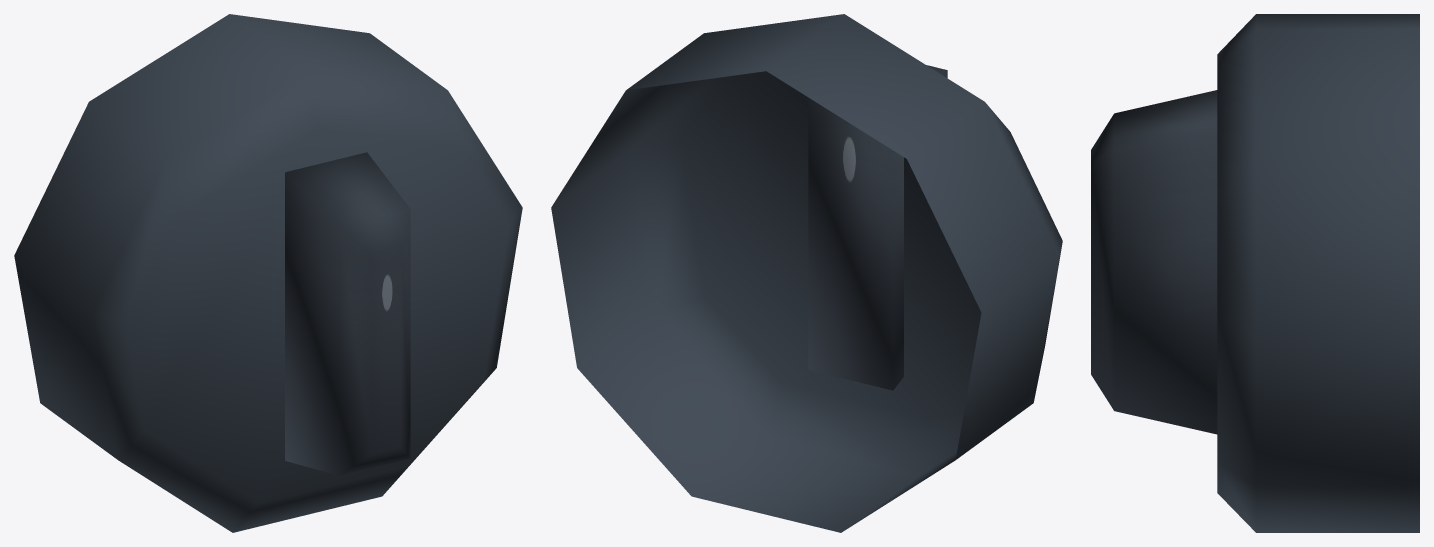
Rendered from StoveNob.fbx.
3 views of the same model, side by side, from view 1: azimuth 30°, elevation 25°; view 2: azimuth 150°, elevation 25°; view 3: azimuth 270°, elevation 25° (orthographic). The views are drawn at different scales.
Parts seen in each view (by area): view 1: StoveNob; view 2: StoveNob; view 3: StoveNob.
Boxes of the visible parts, bbox=[...] form: StoveNob: bbox=[14, 14, 522, 532]; StoveNob: bbox=[551, 14, 1062, 532]; StoveNob: bbox=[1091, 14, 1419, 532].
Size of the model in its own units: 11.04 by 10.87 by 6.97.
